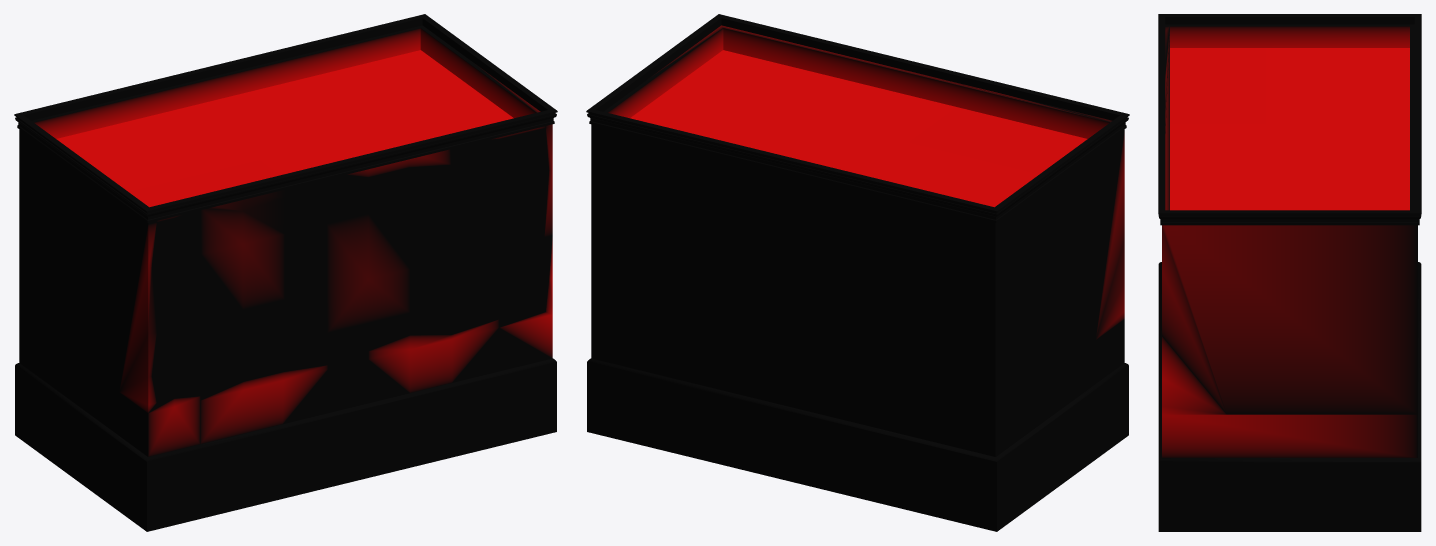
The model's file is House3.fbx.
The picture shows the model from 3 angles, left to right: view 1: azimuth 30°, elevation 25°; view 2: azimuth 150°, elevation 25°; view 3: azimuth 270°, elevation 25°; orthographic projection.
Visible parts, largest first — view 1: House3; view 2: House3; view 3: House3.
Boxes of the visible parts, bbox=[...] form: House3: bbox=[14, 14, 557, 531]; House3: bbox=[586, 14, 1129, 531]; House3: bbox=[1158, 14, 1421, 531].
Size of the model in its own units: 1474 by 1100 by 824.
